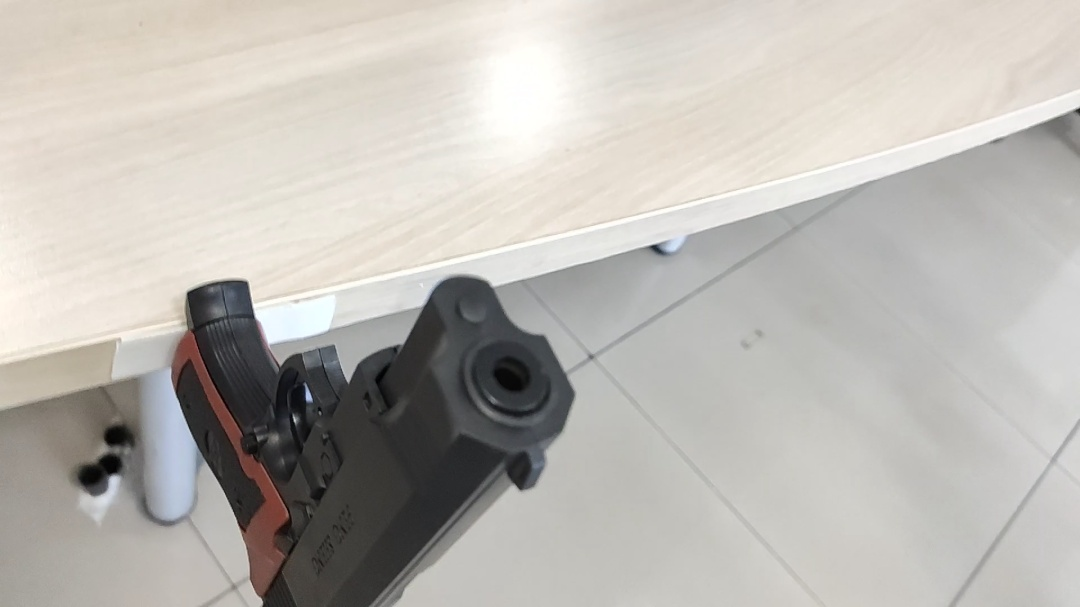gun: (361, 284, 400, 316)
